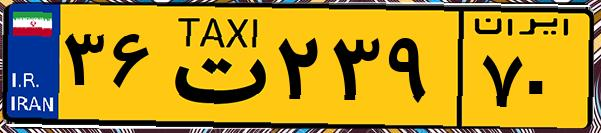0: (525, 38, 570, 115)
2: (270, 28, 330, 110)
3: (330, 28, 385, 110), (57, 26, 110, 100)
6: (110, 28, 158, 98)
7: (475, 38, 525, 113)
9: (385, 28, 445, 110)
ت: (158, 12, 270, 120)
